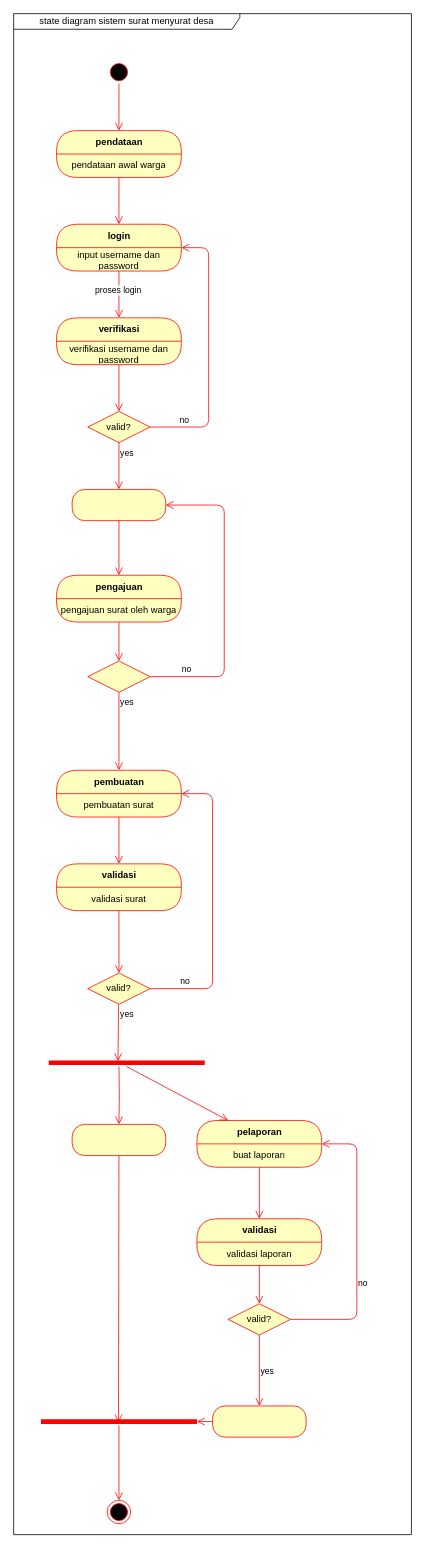
This 425x1548 diagram has some shape labels left out. The centre of each missing label's shape, as x and y in pixels:
"beranda" goes at (118,505).
"kirim surat" goes at (118,1140).
"konfirmasi?" goes at (118,676).
"simpan laporan" goes at (259,1421).
